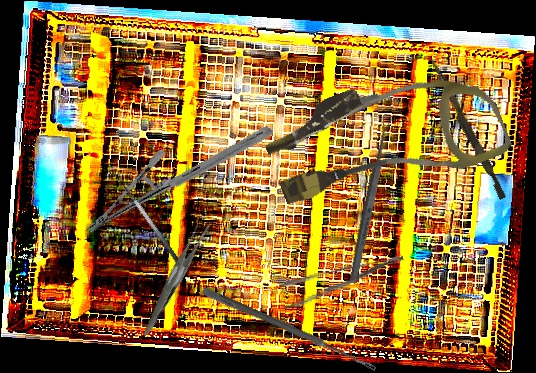Cannula: (257, 42, 514, 233)
Dressing Forceps: (114, 218, 234, 337), (278, 253, 409, 310)
Needle Holder: (85, 73, 274, 287)
Pusher: (425, 59, 510, 200)
Spatula Surgical: (106, 168, 189, 281)
Surgical Spoon: (201, 286, 378, 373), (347, 113, 394, 285)
